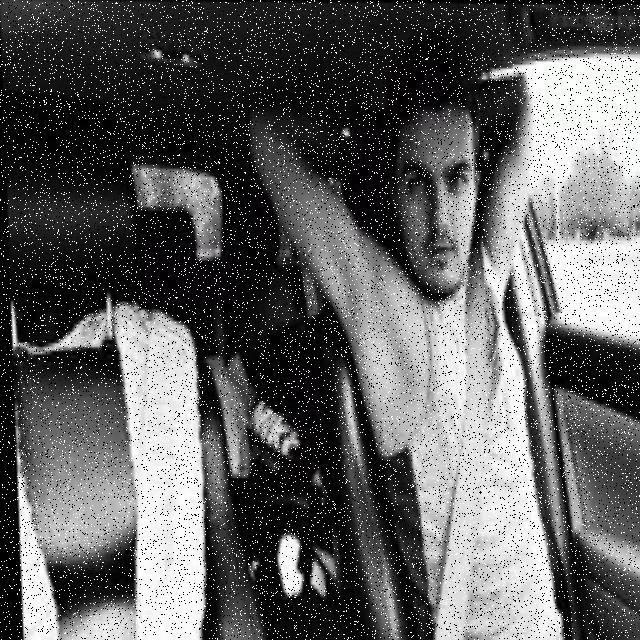seatbelt: (379, 235, 556, 640)
